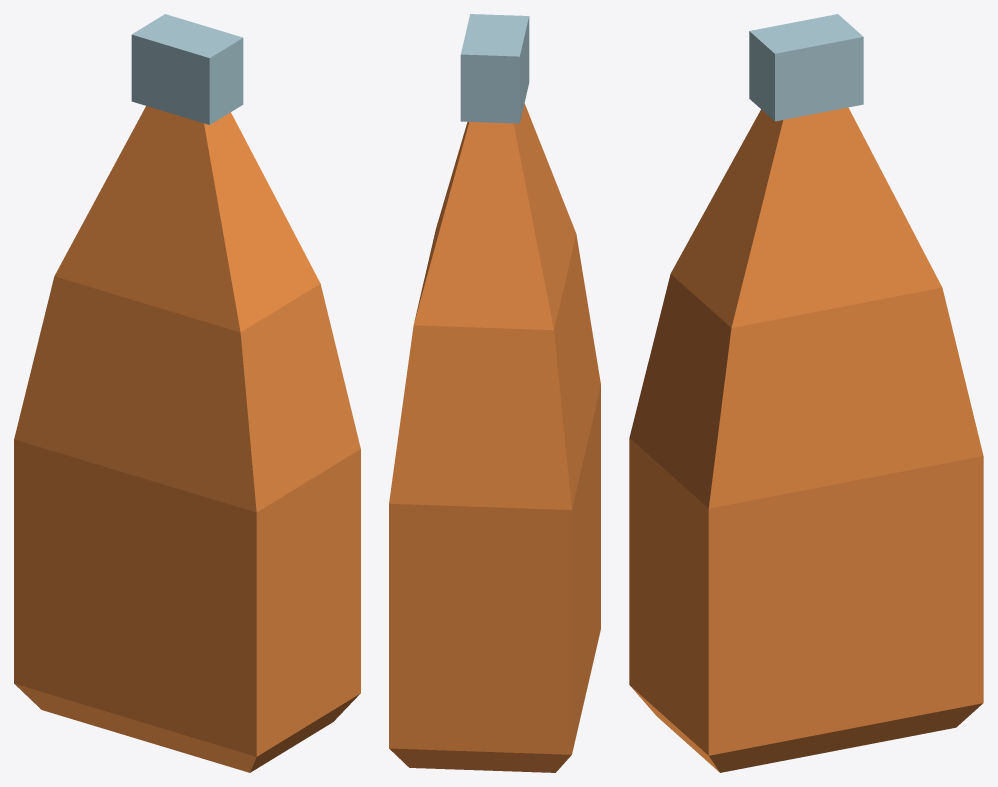
The model's file is Kitchen_2_Bottle_2.fbx.
3 views of the same model, side by side, from view 1: azimuth 30°, elevation 25°; view 2: azimuth 150°, elevation 25°; view 3: azimuth 270°, elevation 25° (orthographic).
Parts seen in each view (by area): view 1: Kitchen_2_Bottle_2; view 2: Kitchen_2_Bottle_2; view 3: Kitchen_2_Bottle_2.
Part boxes in pixels (x1,y1,x2,y2): Kitchen_2_Bottle_2: (14,14,360,772); Kitchen_2_Bottle_2: (389,14,600,772); Kitchen_2_Bottle_2: (629,14,983,772).
Size of the model in its own units: 9.88 by 25.65 by 11.96.
